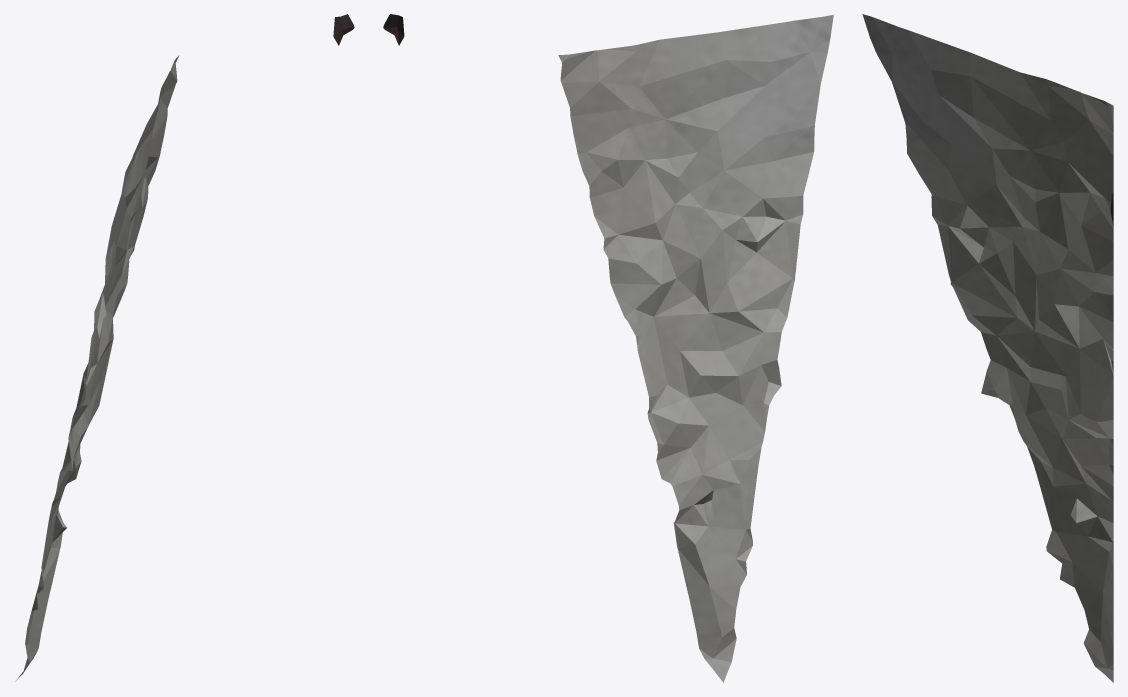
3 views of the same model, side by side, from view 1: azimuth 30°, elevation 25°; view 2: azimuth 150°, elevation 25°; view 3: azimuth 270°, elevation 25° (orthographic). The views are drawn at different scales.
Size of the model in its own units: 0.33 by 0.5444 by 0.1852.
Materials: 1 (1 with a texture image).
